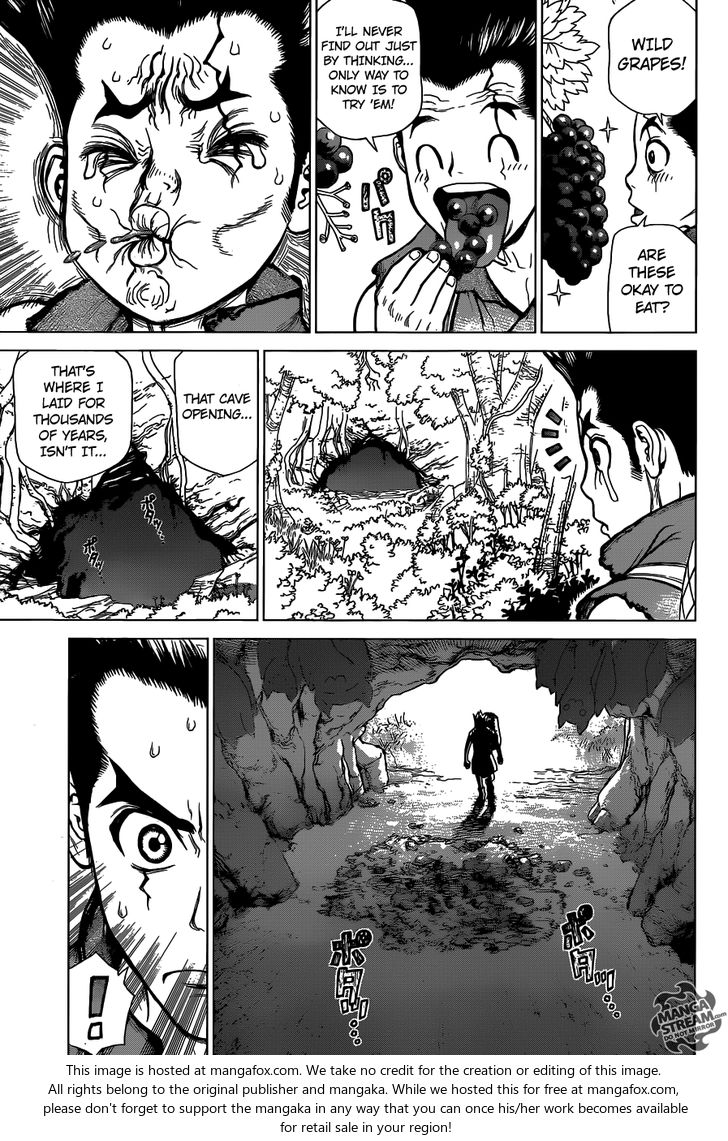bubble: (316, 0, 423, 151), (13, 350, 132, 483), (609, 0, 697, 126), (174, 351, 258, 476), (608, 216, 696, 332), (68, 952, 134, 1055)
